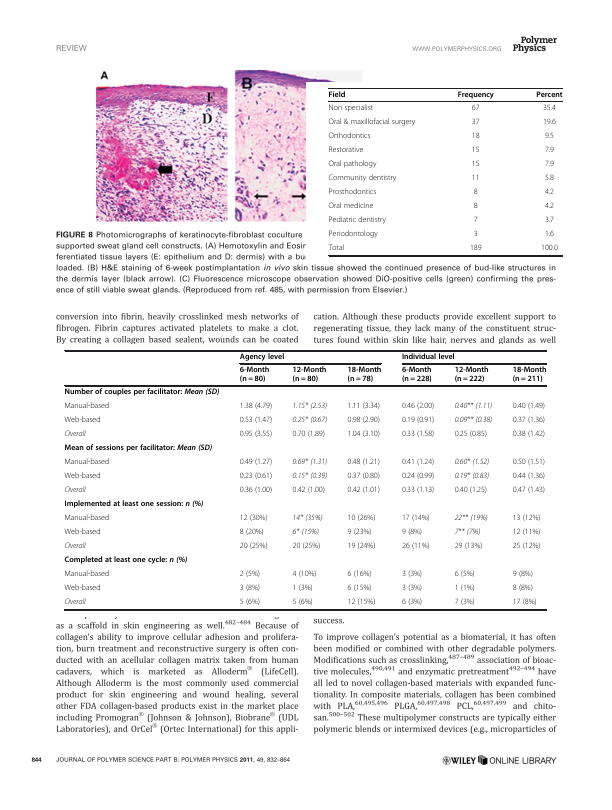borderless: (63, 349, 546, 609), (327, 87, 562, 255)
cell: (64, 388, 220, 398), (64, 444, 213, 454), (64, 500, 204, 510), (64, 556, 188, 566), (328, 118, 416, 128), (328, 174, 397, 184), (292, 366, 327, 385), (347, 366, 382, 385), (454, 366, 489, 385), (512, 366, 547, 385), (401, 366, 433, 385), (328, 216, 387, 226), (239, 366, 270, 385), (328, 230, 379, 240), (401, 353, 456, 362), (328, 160, 377, 170), (328, 188, 377, 198), (328, 104, 374, 114), (328, 202, 374, 212), (328, 132, 371, 142), (239, 353, 285, 362), (64, 402, 110, 411), (64, 458, 110, 467), (64, 514, 110, 523), (64, 570, 110, 579), (328, 146, 364, 156), (454, 402, 493, 411), (454, 416, 493, 425), (457, 91, 495, 100), (64, 416, 101, 425), (64, 472, 101, 481), (64, 528, 101, 537), (64, 584, 101, 593), (292, 402, 328, 411), (292, 416, 328, 425), (292, 458, 328, 467), (454, 458, 490, 467), (292, 472, 328, 481), (454, 472, 490, 481), (454, 514, 489, 523), (239, 402, 273, 411), (347, 402, 381, 411), (401, 402, 435, 411), (512, 402, 546, 411), (239, 416, 273, 425), (347, 416, 381, 425), (401, 416, 435, 425), (512, 416, 546, 425), (239, 430, 273, 439), (292, 430, 326, 439), (347, 430, 381, 439), (401, 430, 435, 439), (454, 430, 488, 439), (512, 430, 546, 439), (239, 458, 273, 467), (347, 458, 381, 467), (401, 458, 435, 467), (512, 458, 546, 467), (239, 472, 273, 481), (347, 472, 381, 481), (401, 472, 435, 481), (512, 472, 546, 481), (239, 486, 273, 495), (292, 486, 326, 495), (347, 486, 381, 495), (401, 486, 435, 495), (454, 486, 488, 495), (512, 486, 546, 495), (292, 514, 323, 523), (401, 514, 431, 523), (401, 542, 431, 551), (239, 514, 268, 523), (347, 514, 376, 523), (512, 514, 541, 523), (512, 528, 541, 537), (239, 542, 268, 551), (292, 542, 321, 551), (347, 542, 376, 551), (454, 542, 483, 551), (512, 542, 541, 551), (347, 598, 376, 607), (292, 528, 320, 537), (535, 91, 563, 100), (454, 528, 481, 537), (239, 528, 265, 537), (512, 598, 538, 607), (347, 528, 372, 537), (292, 570, 317, 579), (347, 570, 372, 579), (347, 584, 372, 593), (64, 430, 87, 439), (64, 486, 87, 495), (64, 542, 87, 551), (64, 598, 87, 607), (401, 528, 423, 537), (239, 570, 261, 579), (401, 570, 423, 579), (454, 570, 476, 579), (512, 570, 534, 579), (239, 584, 261, 593), (292, 584, 314, 593), (401, 584, 423, 593), (454, 584, 476, 593), (512, 584, 534, 593), (239, 598, 261, 607), (292, 598, 314, 607), (401, 598, 423, 607), (454, 598, 476, 607), (540, 244, 559, 254), (328, 244, 345, 254), (328, 91, 346, 100), (542, 104, 557, 114), (542, 118, 557, 128), (469, 244, 482, 254), (544, 132, 555, 142), (544, 146, 555, 156), (544, 160, 555, 170), (544, 174, 555, 184), (544, 188, 555, 198), (544, 202, 555, 212), (544, 216, 555, 226), (544, 230, 555, 240), (471, 104, 480, 114), (471, 118, 480, 128), (471, 132, 480, 142), (471, 146, 480, 156), (471, 160, 480, 170), (471, 174, 480, 184), (473, 188, 479, 198), (473, 202, 479, 212), (473, 216, 479, 226), (473, 230, 479, 240)
